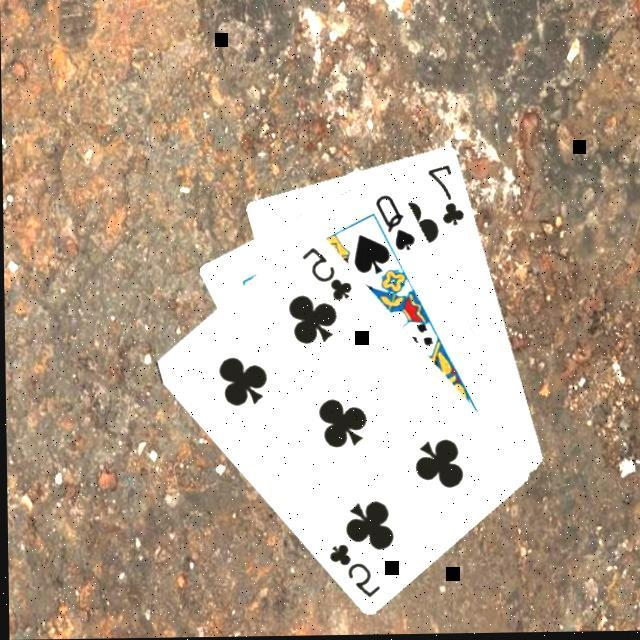5C: (299, 242, 358, 305), (325, 538, 384, 601)
7C: (426, 161, 469, 229)
QS: (373, 190, 420, 255)
